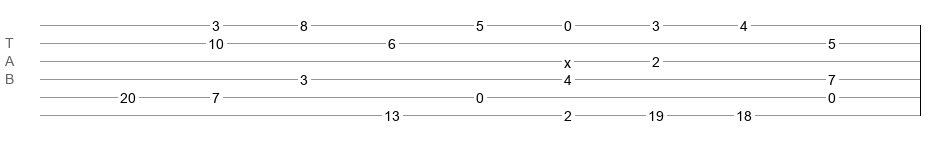0: (476, 90, 484, 100), (564, 18, 572, 28), (828, 90, 836, 100)
10: (208, 36, 224, 46)
13: (384, 108, 400, 118)
18: (736, 108, 752, 118)
19: (648, 108, 664, 118)
2: (564, 108, 572, 118), (652, 54, 660, 64)
20: (120, 90, 136, 100)
3: (212, 18, 220, 28), (300, 72, 308, 82), (652, 18, 660, 28)
4: (564, 72, 572, 82), (740, 18, 748, 28)
5: (476, 18, 484, 28), (828, 36, 836, 46)
6: (388, 36, 396, 46)
7: (212, 90, 220, 100), (828, 72, 836, 82)
8: (300, 18, 308, 28)
x: (564, 55, 571, 63)
